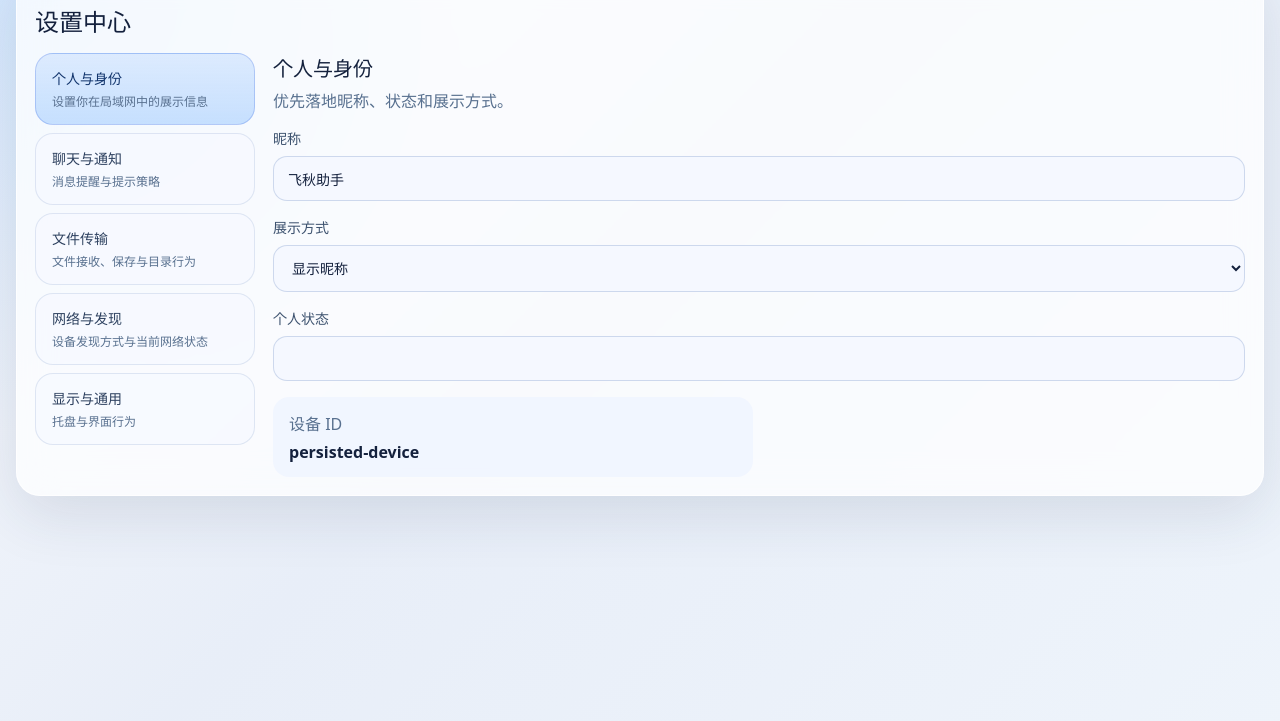
shows targeted troubleshooting suggestions for timeout refresh failures
The width and height of the screenshot is (1280, 721).
Click the button "网络与发现 设备发现方式与当前网络状态": click(145, 329) [35,293,255,365]
(page scrolled)
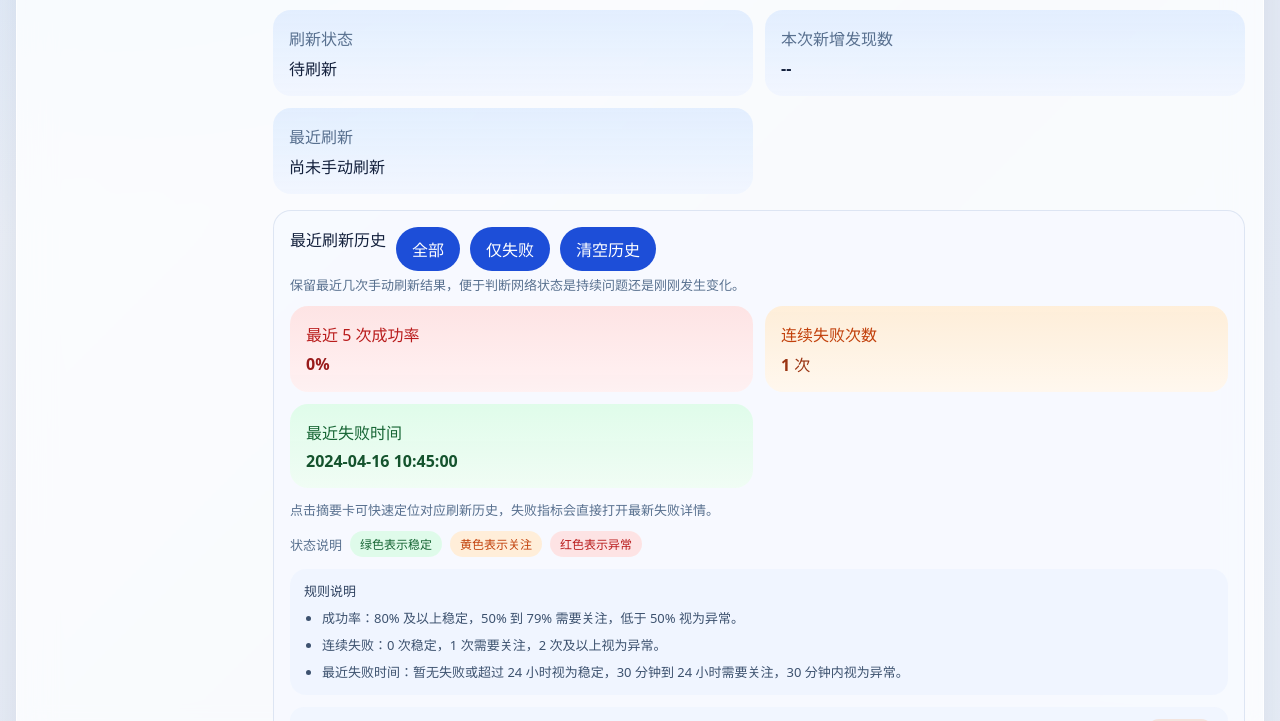
Click the button "连续失败次数 1 次": click(829, 335) [781,322,1212,376]
(page scrolled)
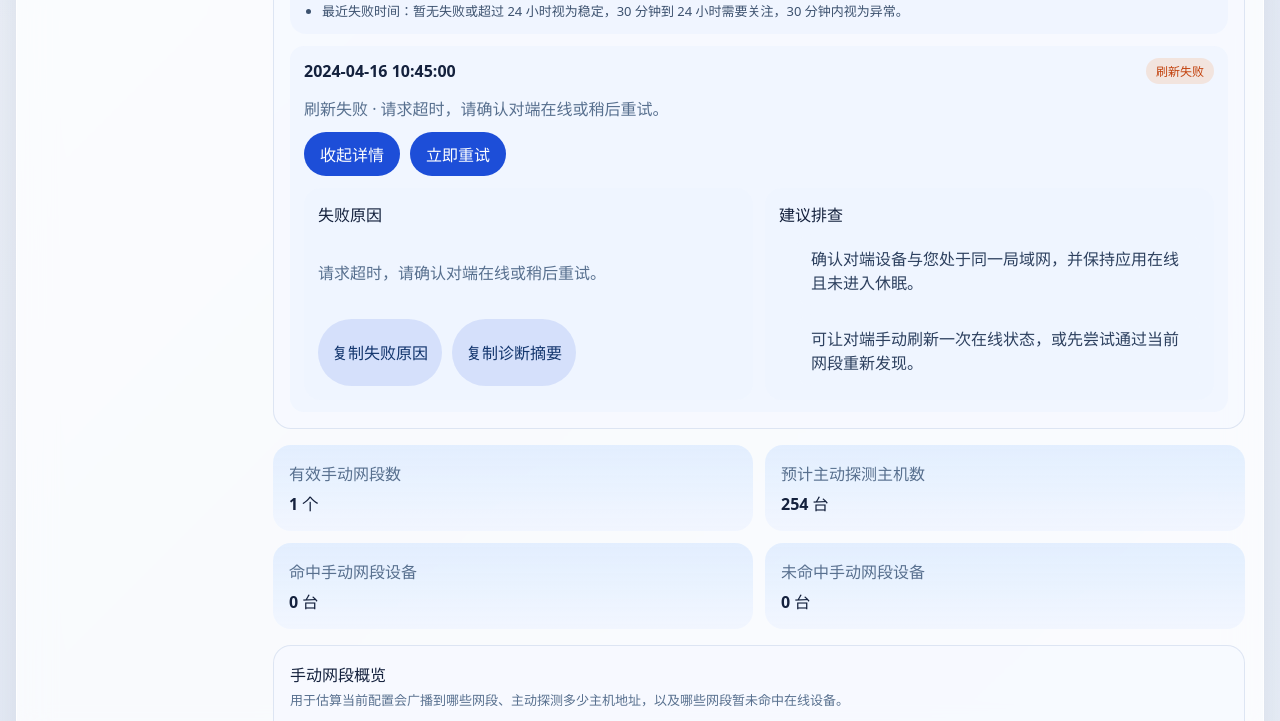
Expected: the text "建议排查" is shown, [779,204,843,226]
Expected: the list item "确认对端设备与您处于同一局域网，并保持应用在线且未进入休眠。" is shown, [797,234,1200,306]
Expected: the list item "可让对端手动刷新一次在线状态，或先尝试通过当前网段重新发现。" is shown, [797,314,1200,386]
